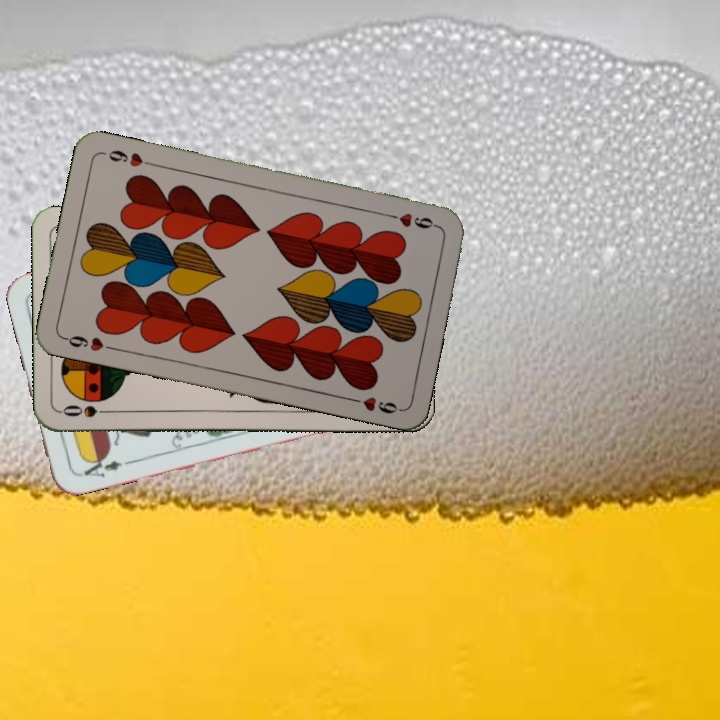EA: (74, 452, 125, 481)
H9: (59, 331, 118, 354), (382, 209, 441, 232)
SO: (58, 401, 117, 420)
